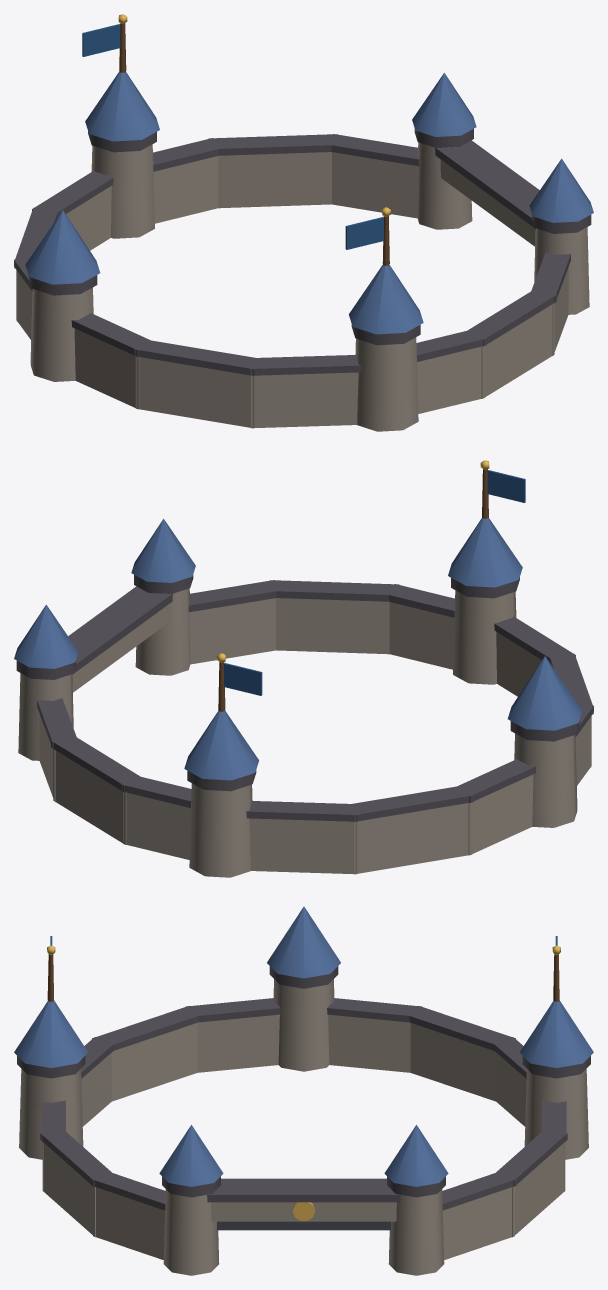
File: base_merchant_walls_2.glb
The picture shows the model from 3 angles, top to bottom: view 1: azimuth 30°, elevation 25°; view 2: azimuth 150°, elevation 25°; view 3: azimuth 270°, elevation 25°; orthographic projection. The views are drawn at different scales.
Parts seen in each view (by area): view 1: wall_7, wall_1, wall_8, tower_260_body, wall_0, tower_180_body, tower_100_body, wall_10, wall_9, gate_arch_cap, wall_2, wall_6 (+29 smaller); view 2: wall_4, wall_10, wall_3, tower_100_body, wall_11, tower_180_body, tower_260_body, wall_1, wall_2, gate_arch_cap, wall_9, wall_5 (+29 smaller); view 3: gate_arch_cap, tower_180_body, wall_4, wall_7, wall_5, wall_6, gate_tower_n_body, gate_tower_s_body, wall_0, wall_11, tower_100_body, tower_260_body (+28 smaller).
Part boxes in pixels (bbox=[...]): wall_7: bbox=[135, 356, 254, 428]; wall_1: bbox=[218, 152, 331, 208]; wall_8: bbox=[250, 372, 358, 428]; tower_260_body: bbox=[355, 337, 418, 431]; wall_0: bbox=[332, 152, 418, 218]; tower_180_body: bbox=[30, 287, 93, 381]; tower_100_body: bbox=[91, 144, 154, 238]; wall_10: bbox=[481, 303, 554, 398]; wall_9: bbox=[417, 346, 484, 413]; gate_arch_cap: bbox=[435, 140, 539, 228]; wall_2: bbox=[153, 156, 218, 223]; wall_6: bbox=[74, 328, 139, 409]; wall_4: bbox=[353, 802, 472, 874]; wall_10: bbox=[276, 598, 389, 654]; wall_3: bbox=[249, 818, 357, 874]; tower_100_body: bbox=[189, 783, 252, 877]; wall_11: bbox=[189, 598, 275, 664]; tower_180_body: bbox=[514, 733, 577, 827]; tower_260_body: bbox=[453, 590, 516, 684]; wall_1: bbox=[53, 749, 126, 844]; wall_2: bbox=[123, 792, 190, 859]; gate_arch_cap: bbox=[68, 586, 172, 674]; wall_9: bbox=[389, 602, 454, 669]; wall_5: bbox=[468, 774, 533, 855]; gate_arch_cap: bbox=[207, 1178, 400, 1202]; tower_180_body: bbox=[273, 979, 334, 1071]; wall_4: bbox=[410, 1023, 496, 1101]; wall_7: bbox=[111, 1023, 197, 1101]; wall_5: bbox=[328, 1014, 410, 1072]; wall_6: bbox=[197, 1014, 279, 1072]; gate_tower_n_body: bbox=[388, 1189, 444, 1275]; gate_tower_s_body: bbox=[163, 1189, 219, 1275]; wall_0: bbox=[443, 1186, 514, 1260]; wall_11: bbox=[93, 1186, 164, 1260]; tower_100_body: bbox=[524, 1069, 588, 1159]; tower_260_body: bbox=[19, 1069, 83, 1159].
Bounding box in the file's own units: 1.08 × 0.4348 × 1.13.
